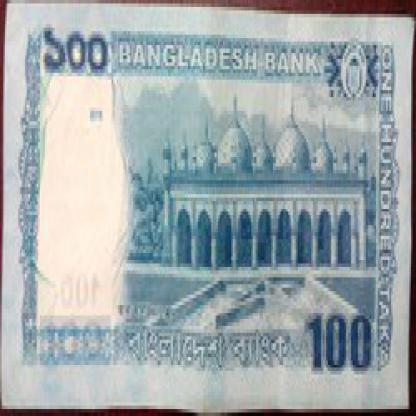one hundred taka: (305, 291, 376, 382), (40, 20, 120, 86)
